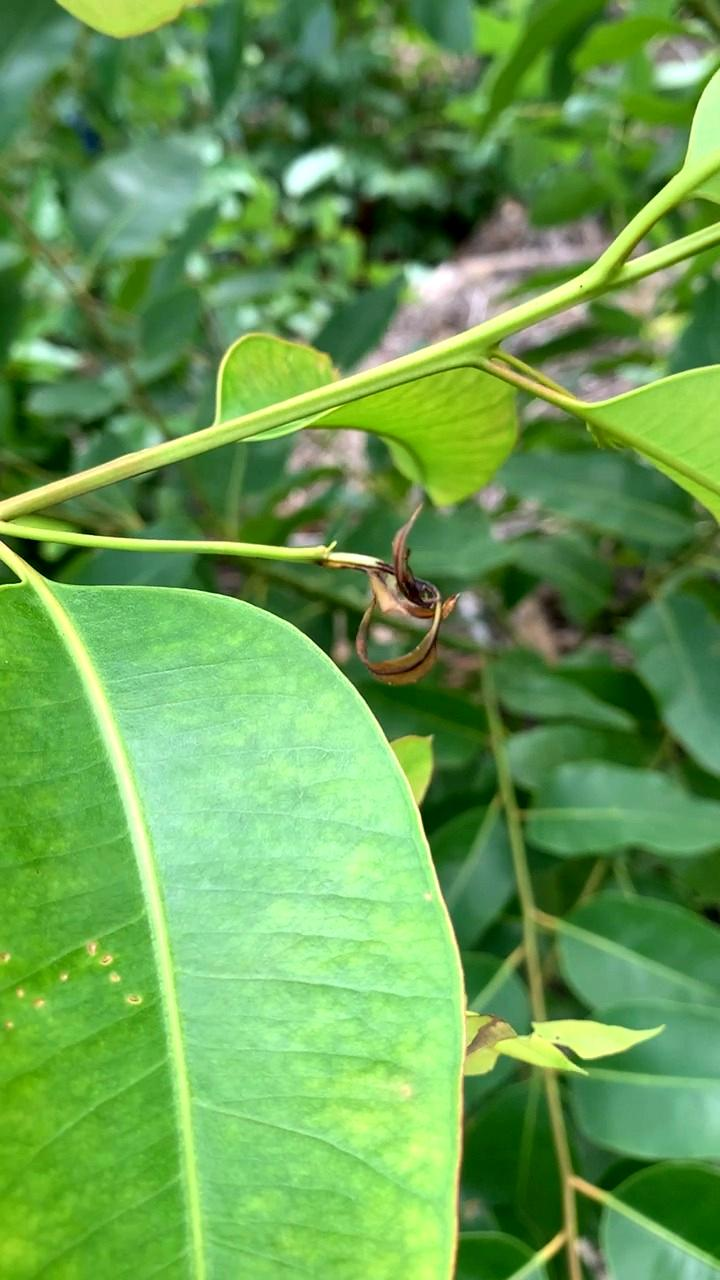Helopeltis-Withered Sprout: (348, 511, 457, 691)
